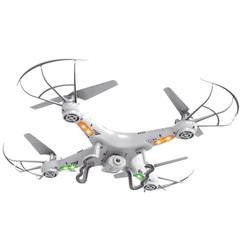drone: (2, 56, 241, 193)
